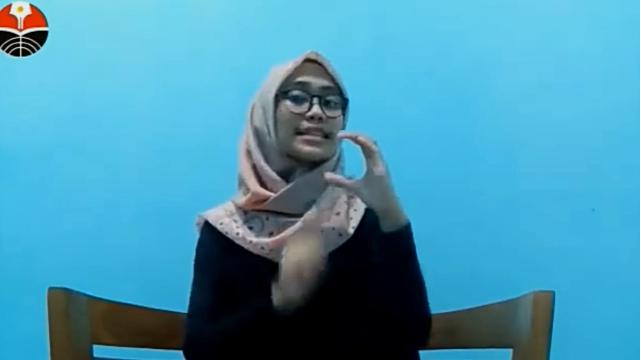C: (323, 131, 397, 211)
